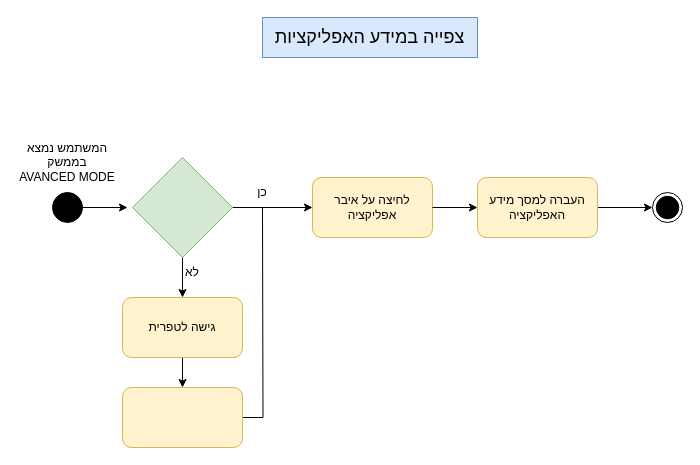
Image size: 700x465. Some labels were removed from this diagram. The shapes that lost their labels are listed below. From the top down, each one's centre as x and y in pixels, then its label:
At (x=182, y=207): "המשתמש נמצא במסך חומת האש?".
At (x=182, y=417): "לחיצה בלשונית חומת האש".
